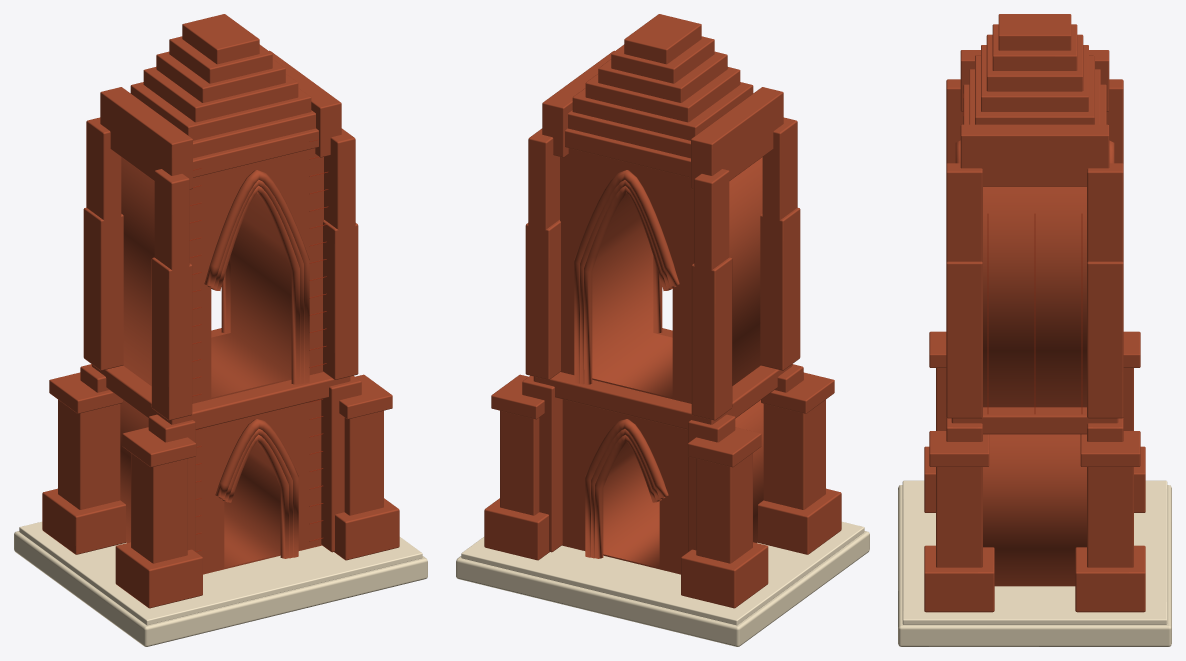
Rendered from dong-hoi.glb.
The picture shows the model from 3 angles, left to right: view 1: azimuth 30°, elevation 25°; view 2: azimuth 150°, elevation 25°; view 3: azimuth 270°, elevation 25°; orthographic projection. The views are drawn at different scales.
Parts seen in each view (by area): view 1: LANDMARK_dong-hoi.001; view 2: LANDMARK_dong-hoi.001; view 3: LANDMARK_dong-hoi.001.
Boxes of the visible parts, <box> form: LANDMARK_dong-hoi.001: <box>14,14,427,646</box>; LANDMARK_dong-hoi.001: <box>456,14,869,646</box>; LANDMARK_dong-hoi.001: <box>898,14,1171,646</box>.
Bounding box in the file's own units: 1.39 × 2.49 × 1.12.
